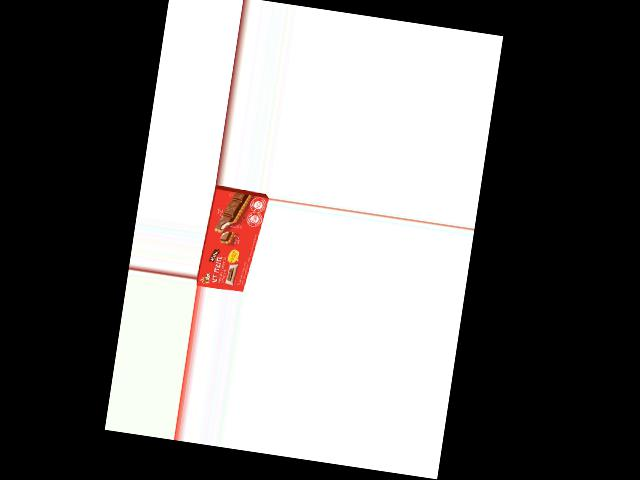chocolate: (200, 186, 263, 294)
